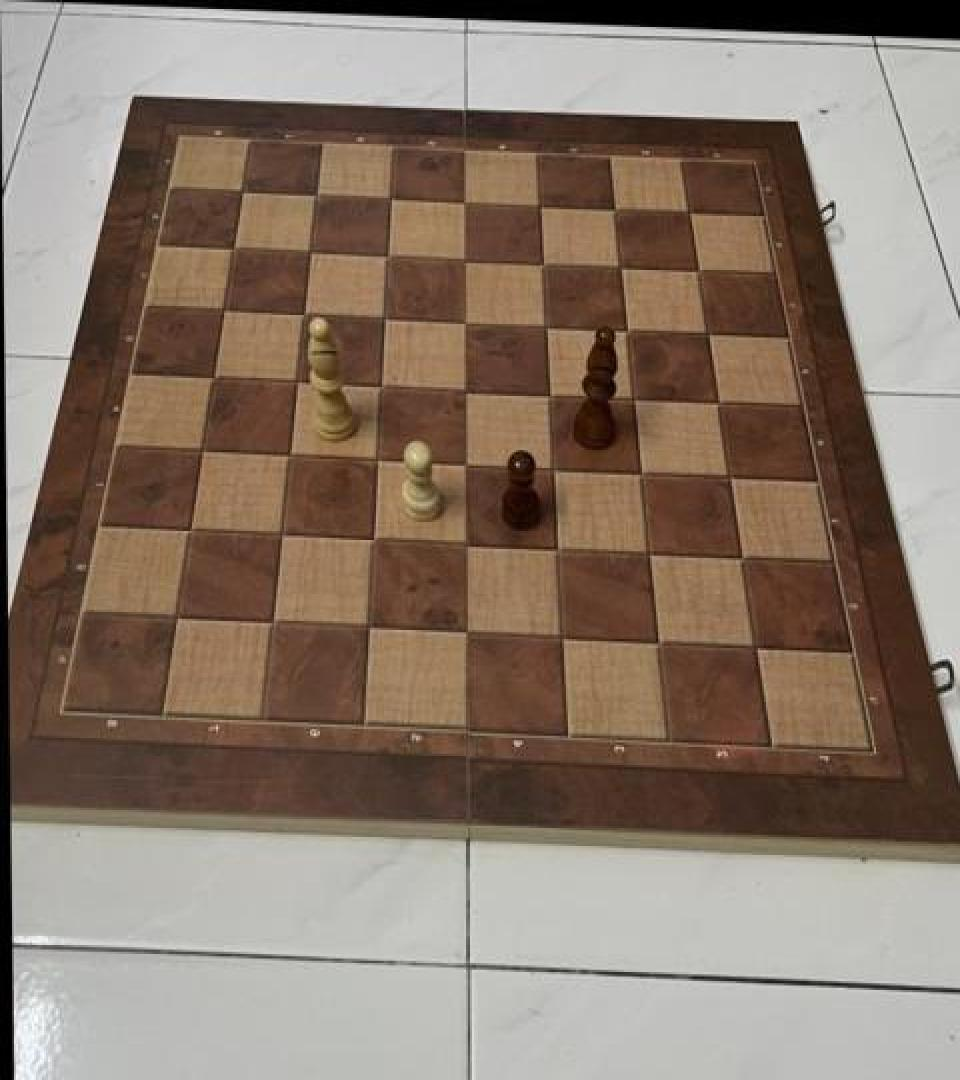xcorner: (227, 174, 261, 213), (449, 371, 483, 410), (274, 436, 308, 475), (301, 178, 335, 216), (375, 181, 409, 219), (449, 184, 483, 222), (524, 187, 558, 225), (599, 190, 633, 228), (674, 194, 708, 232), (218, 231, 252, 269), (295, 235, 329, 273), (372, 238, 406, 276), (449, 242, 483, 280), (527, 246, 561, 284), (604, 249, 638, 287), (682, 252, 716, 290), (209, 292, 243, 330), (289, 297, 323, 335), (369, 300, 403, 338), (449, 304, 483, 342), (530, 308, 564, 346), (610, 312, 644, 350), (692, 315, 726, 353), (198, 360, 232, 398), (282, 364, 316, 402), (365, 368, 399, 406), (533, 376, 567, 414), (617, 380, 651, 418), (702, 384, 736, 422), (187, 432, 221, 470), (361, 441, 395, 479), (449, 446, 483, 484), (536, 450, 570, 488), (624, 454, 658, 492), (713, 458, 747, 496), (175, 512, 209, 550), (266, 516, 300, 554), (357, 521, 391, 559), (448, 526, 482, 564), (540, 530, 574, 568), (632, 534, 666, 572), (725, 540, 759, 578), (162, 598, 196, 636), (257, 604, 291, 642), (352, 609, 386, 647), (448, 614, 482, 652), (544, 619, 578, 657), (641, 624, 675, 662), (738, 629, 772, 667)
